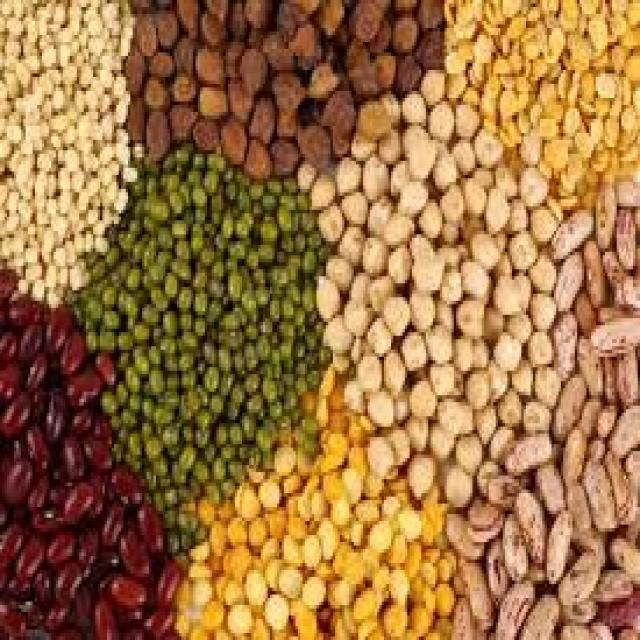organic waste: (0, 0, 638, 637), (296, 66, 638, 636), (67, 143, 326, 552), (170, 356, 451, 636), (0, 263, 177, 636), (123, 0, 444, 175), (0, 0, 140, 301), (440, 0, 638, 203), (184, 28, 295, 157), (316, 168, 408, 311), (0, 314, 58, 532), (174, 552, 319, 636), (238, 493, 328, 616), (130, 381, 235, 486), (326, 560, 468, 636), (363, 514, 452, 612), (396, 402, 472, 507), (128, 10, 186, 144), (251, 182, 312, 297), (316, 468, 372, 588), (142, 196, 226, 276), (358, 308, 419, 416), (198, 332, 244, 469), (312, 395, 365, 507), (400, 161, 463, 248), (112, 283, 177, 367), (352, 10, 458, 60), (388, 224, 444, 318), (30, 511, 81, 605), (60, 126, 124, 196), (9, 192, 72, 259), (284, 42, 372, 87), (14, 35, 58, 122), (0, 500, 26, 612), (405, 98, 449, 164), (501, 430, 552, 483), (28, 143, 72, 203), (456, 560, 494, 626), (493, 577, 533, 637), (540, 504, 570, 584), (545, 203, 591, 255), (579, 451, 610, 528), (288, 287, 316, 367), (42, 73, 84, 126), (550, 374, 586, 434), (512, 588, 556, 636), (588, 311, 638, 353), (512, 486, 542, 556), (98, 570, 146, 612), (146, 552, 182, 608), (317, 84, 349, 147), (602, 448, 630, 518), (58, 360, 100, 406), (444, 507, 480, 560), (112, 518, 146, 574), (619, 448, 638, 546), (42, 300, 79, 350), (2, 217, 33, 276), (549, 308, 575, 378), (126, 598, 172, 637), (96, 465, 138, 507), (556, 549, 594, 595), (549, 248, 580, 304), (244, 91, 275, 147), (88, 588, 124, 636), (605, 399, 638, 451), (582, 234, 605, 308), (54, 552, 88, 602), (484, 532, 507, 605), (59, 479, 102, 518), (135, 497, 163, 556), (559, 420, 584, 486), (56, 427, 86, 482), (449, 591, 484, 637), (533, 458, 563, 511), (503, 224, 540, 266), (502, 507, 524, 577), (454, 290, 484, 340), (65, 18, 96, 66), (51, 329, 84, 374), (405, 451, 437, 497), (295, 115, 326, 161), (568, 525, 605, 563), (442, 462, 475, 504), (480, 182, 508, 231), (95, 500, 124, 546), (12, 535, 46, 574), (496, 385, 521, 437), (610, 535, 638, 581), (575, 332, 598, 388), (82, 430, 110, 476), (70, 580, 93, 636), (526, 245, 554, 290), (344, 46, 370, 94), (219, 112, 244, 161), (12, 0, 37, 49), (447, 427, 479, 465), (240, 567, 272, 605), (237, 45, 263, 91), (530, 364, 561, 402), (614, 349, 638, 398), (472, 119, 500, 161), (468, 227, 498, 266), (356, 91, 382, 136), (605, 591, 638, 626), (570, 284, 594, 332), (517, 395, 549, 430), (28, 252, 60, 287), (195, 80, 226, 116), (491, 269, 519, 308), (16, 318, 47, 353), (268, 133, 296, 171), (594, 182, 612, 241), (570, 528, 603, 560), (486, 420, 517, 454), (91, 346, 121, 381), (484, 476, 521, 504), (472, 458, 498, 497), (491, 325, 517, 364), (594, 566, 630, 594), (528, 290, 556, 326), (30, 566, 58, 602), (23, 350, 49, 388), (516, 161, 544, 196), (468, 224, 496, 259), (260, 591, 288, 626), (426, 94, 451, 133), (275, 556, 300, 595), (466, 514, 500, 542), (526, 200, 554, 234), (419, 63, 444, 101), (463, 259, 489, 294), (242, 140, 268, 175), (226, 370, 251, 406), (503, 304, 528, 339), (84, 413, 112, 444), (463, 370, 487, 406), (405, 602, 430, 636), (507, 353, 531, 388), (598, 353, 615, 402), (617, 217, 633, 269), (449, 395, 475, 427), (188, 115, 216, 144), (452, 101, 477, 133), (568, 490, 589, 528), (396, 52, 416, 91), (524, 329, 549, 360), (431, 147, 456, 178), (435, 185, 459, 217), (44, 598, 68, 630), (480, 301, 500, 339), (505, 192, 526, 228), (616, 270, 638, 304), (465, 497, 496, 521), (458, 175, 482, 206), (491, 164, 514, 196), (300, 535, 321, 570), (561, 594, 593, 616), (510, 269, 528, 308), (472, 398, 491, 434), (596, 399, 617, 430), (433, 581, 454, 612), (612, 178, 638, 203), (61, 406, 88, 430), (254, 416, 272, 451), (316, 514, 333, 549), (461, 210, 482, 238), (468, 336, 489, 364), (524, 553, 542, 584), (261, 371, 279, 402), (596, 304, 621, 326), (435, 549, 452, 581), (316, 598, 333, 630), (577, 395, 596, 423), (451, 336, 468, 367), (372, 49, 389, 80), (470, 164, 491, 189), (598, 245, 619, 269), (338, 465, 356, 493), (405, 574, 421, 605), (244, 384, 261, 412), (559, 619, 584, 637), (489, 224, 507, 248), (416, 577, 431, 605), (223, 392, 240, 416), (433, 612, 449, 637), (266, 290, 280, 318), (191, 287, 205, 315), (584, 434, 603, 454), (493, 252, 510, 273), (277, 290, 291, 315), (244, 367, 263, 385), (591, 616, 608, 636), (616, 622, 638, 636), (251, 332, 263, 357), (630, 206, 638, 242), (552, 437, 563, 462), (545, 196, 556, 220), (256, 311, 270, 329), (608, 280, 622, 297)
